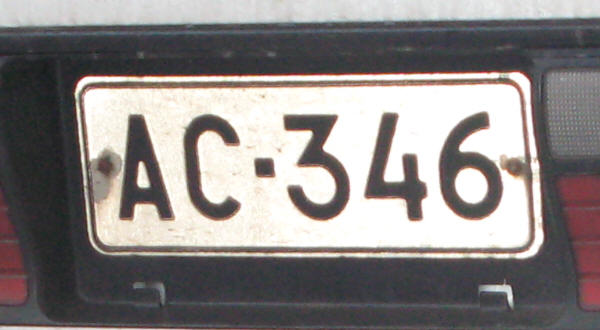license_plate: (75, 77, 536, 256)
